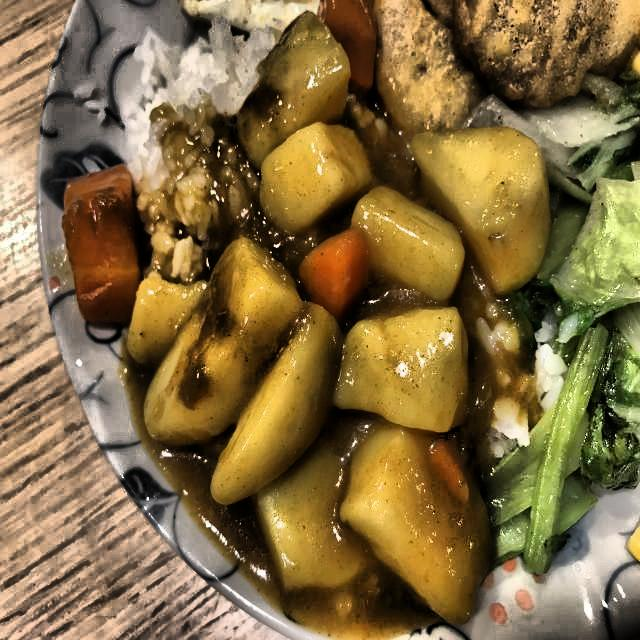Food: (108, 73, 550, 616), (378, 0, 640, 98)
